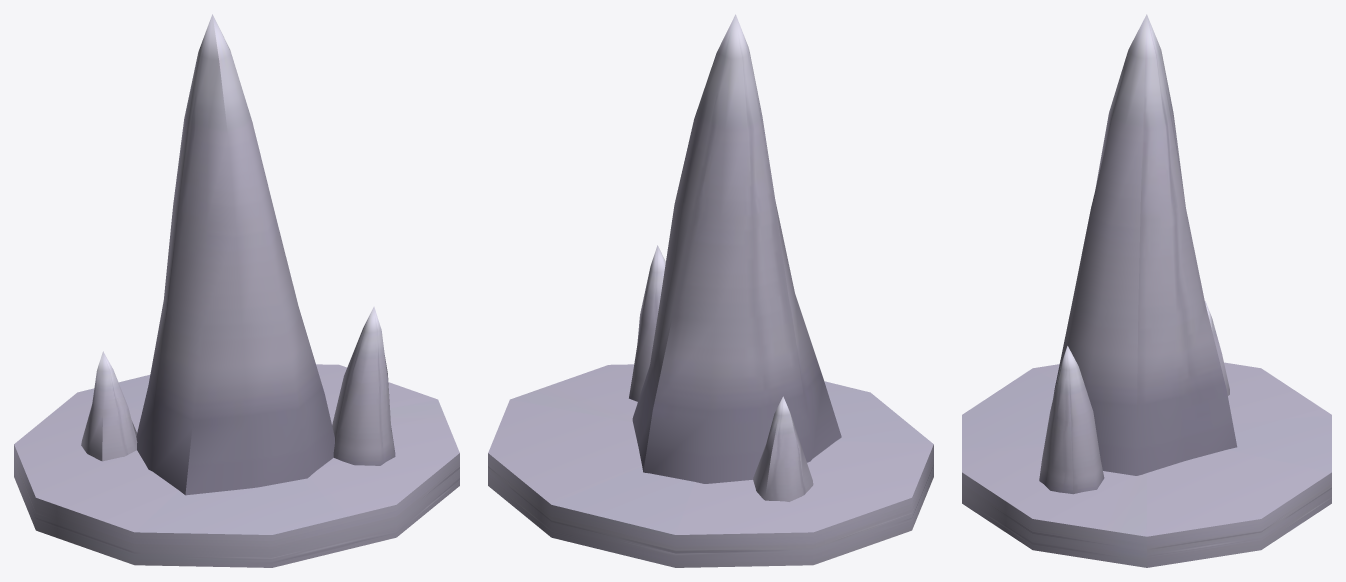
File: stalagmite_tall.glb
3 renders of one model, left to right at view 1: azimuth 30°, elevation 25°; view 2: azimuth 150°, elevation 25°; view 3: azimuth 270°, elevation 25°, orthographic. The views are drawn at different scales.
Parts seen in each view (by area): view 1: stalagmite_tall; view 2: stalagmite_tall; view 3: stalagmite_tall.
Part boxes in pixels (bbox=[...]): stalagmite_tall: bbox=[14, 14, 459, 567]; stalagmite_tall: bbox=[488, 14, 933, 567]; stalagmite_tall: bbox=[962, 14, 1331, 567].
Bounding box in the file's own units: 2.1 × 2.42 × 1.76.
1 material, 1 textured.
